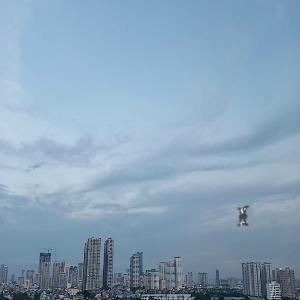drone: (217, 188, 276, 247)
